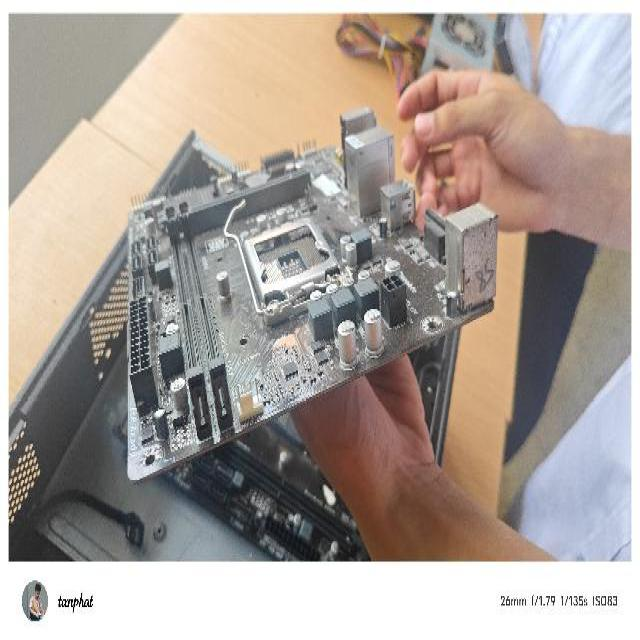Mainboard: (117, 101, 500, 484)
